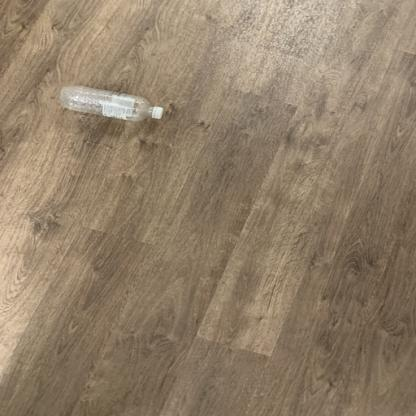trash: (57, 85, 166, 122)
